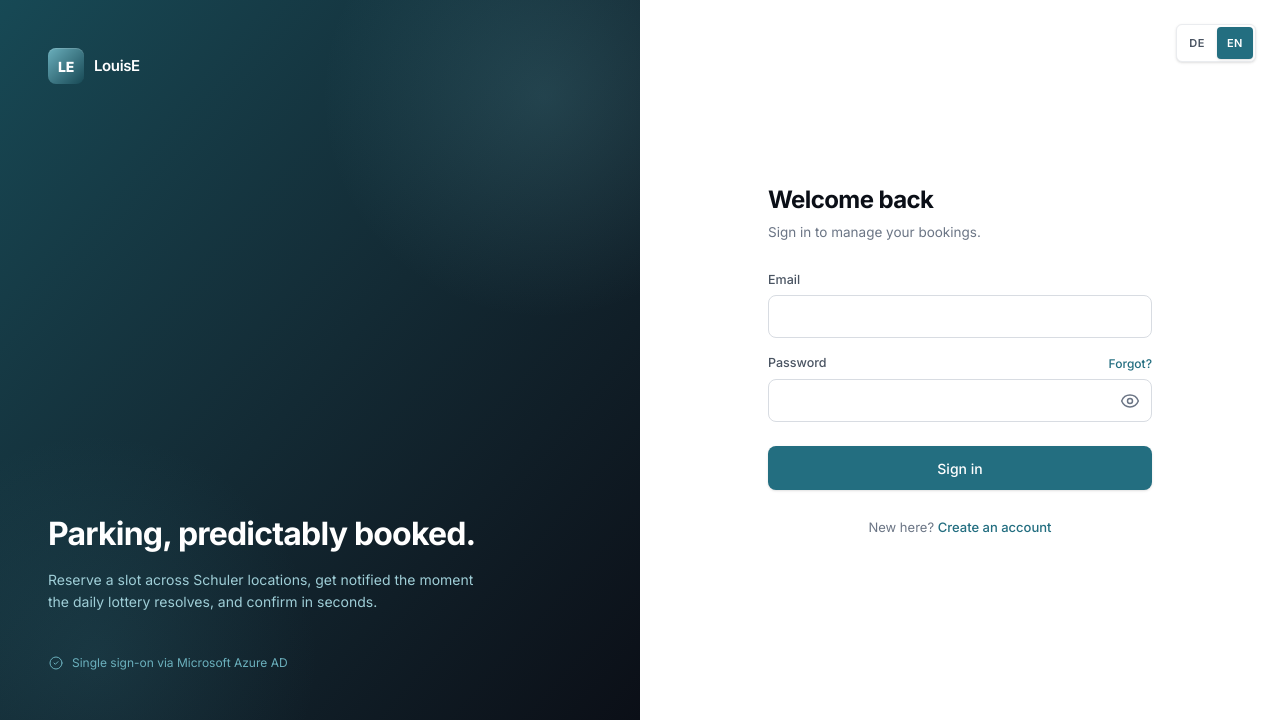
Test: LoginPage › shows generic error when response has no error field
In the field labelled "Email": [960, 317] box [768,295,1152,338], type "test@test.de"
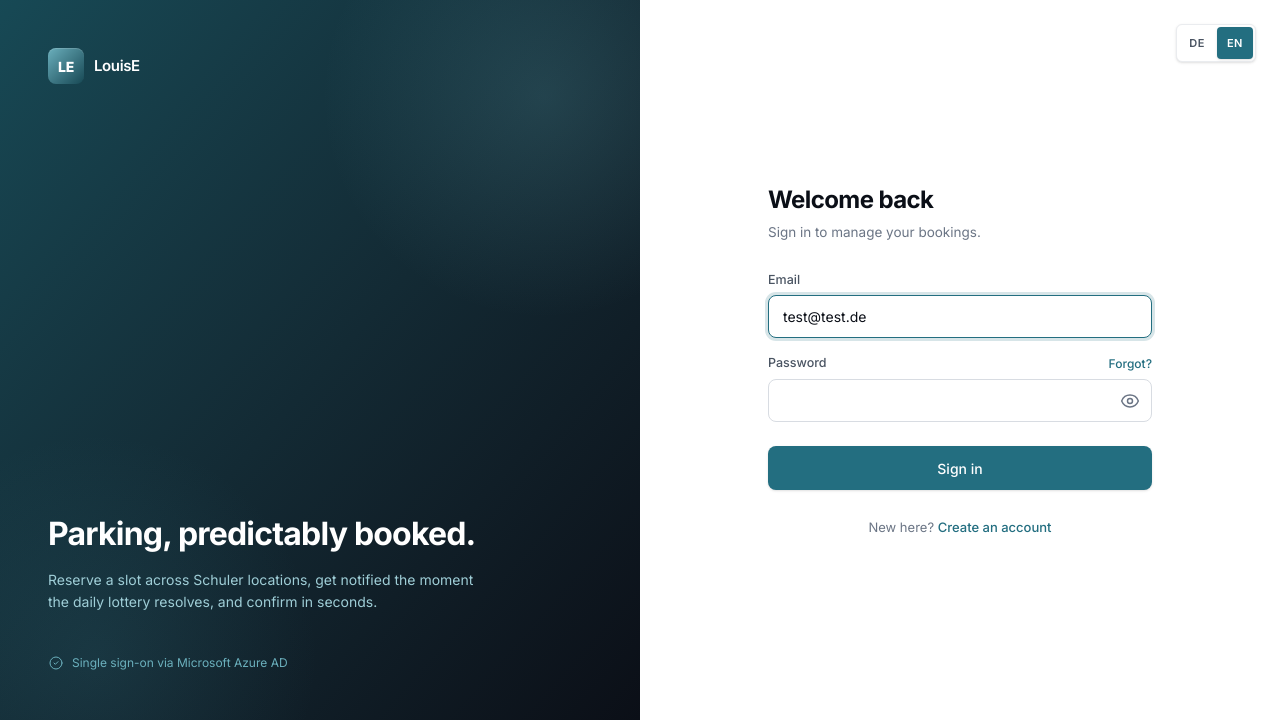
In the password field labelled "Password": [960, 401] box [768,379,1152,422], type "pass1234"
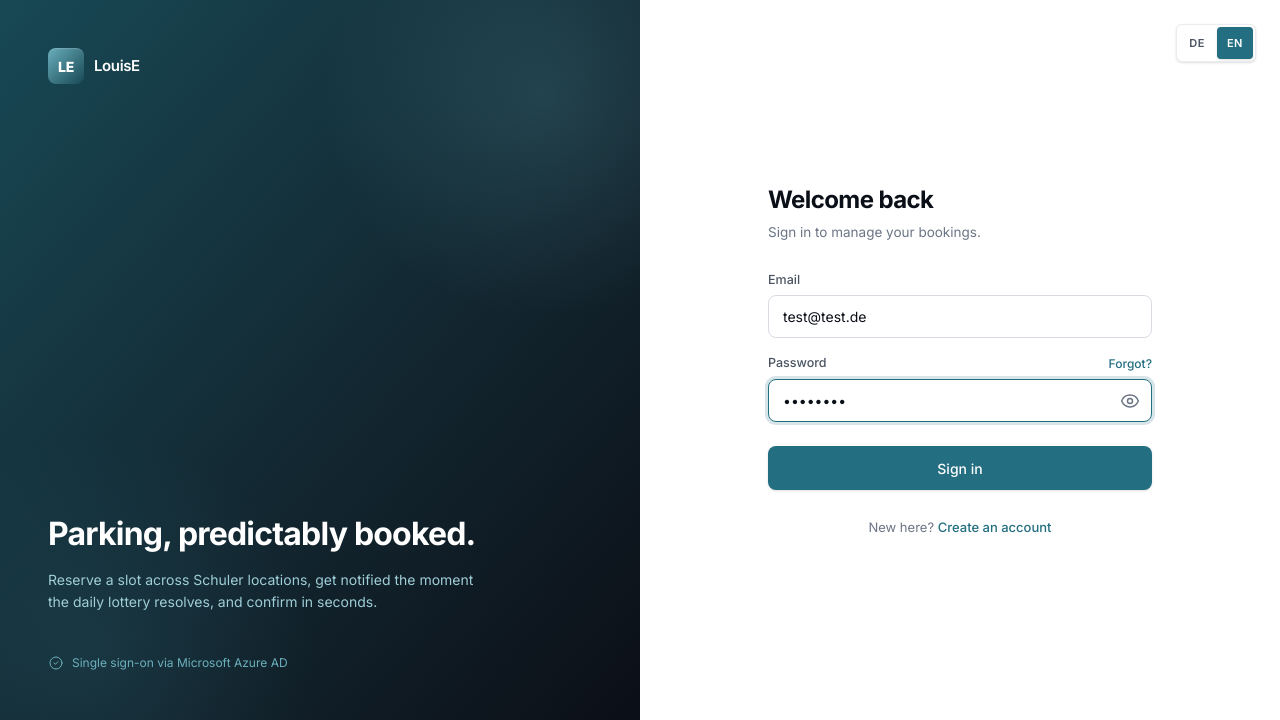
Click the button "Sign in": [960, 468] box [768,446,1152,490]
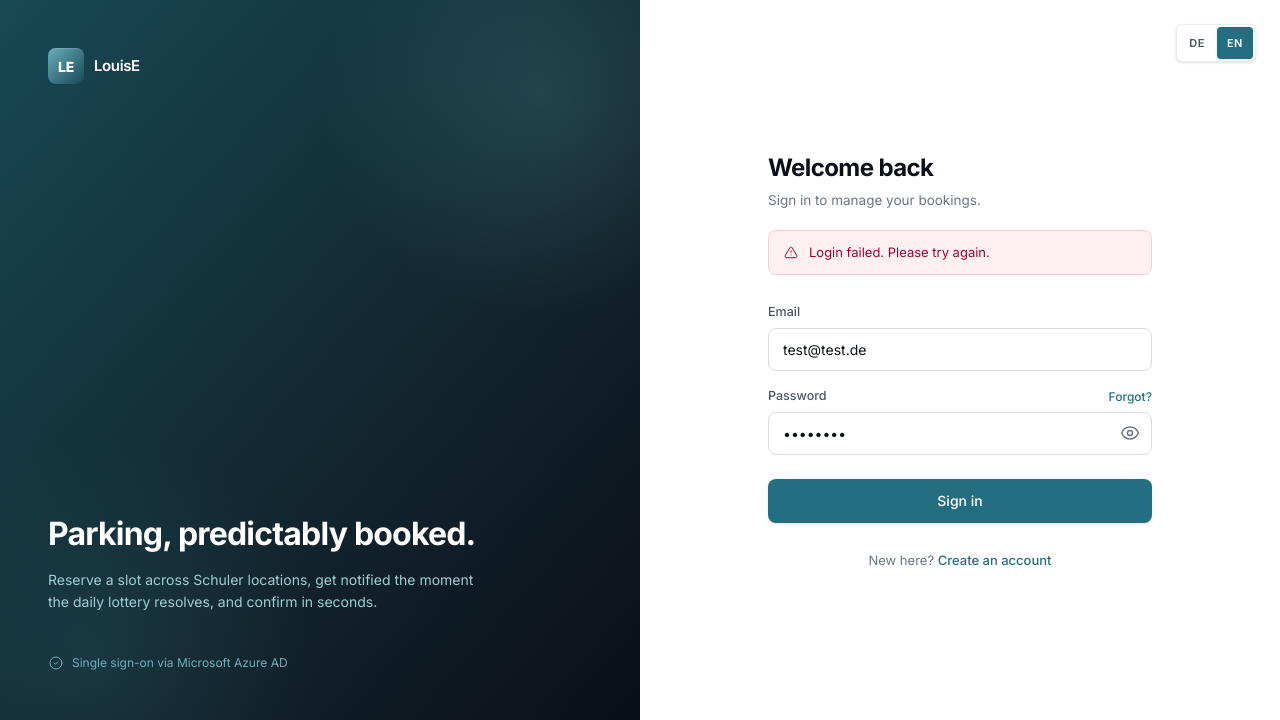
Result: the text "Login failed. Please try again." is shown at [809,244,990,260]
